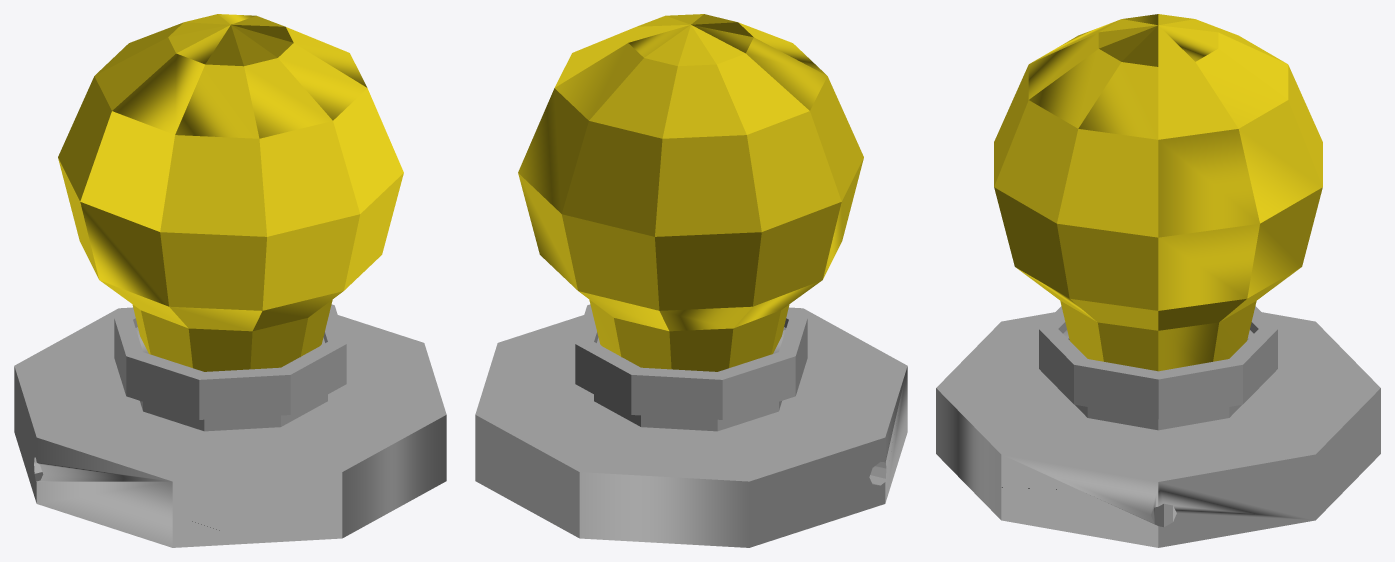
Rendered from light_bulb.fbx.
3 renders of one model, left to right at view 1: azimuth 30°, elevation 25°; view 2: azimuth 150°, elevation 25°; view 3: azimuth 270°, elevation 25°, orthographic.
Parts seen in each view (by area): view 1: Holder_Cylinder_2; view 2: Holder_Cylinder_2; view 3: Holder_Cylinder_2.
Boxes of the visible parts, <box> form: Holder_Cylinder_2: <box>14,14,446,547</box>; Holder_Cylinder_2: <box>475,14,907,547</box>; Holder_Cylinder_2: <box>936,14,1380,547</box>.
Bounding box in the file's own units: 17.9 × 19.05 × 17.9.
1 material, 1 textured.
